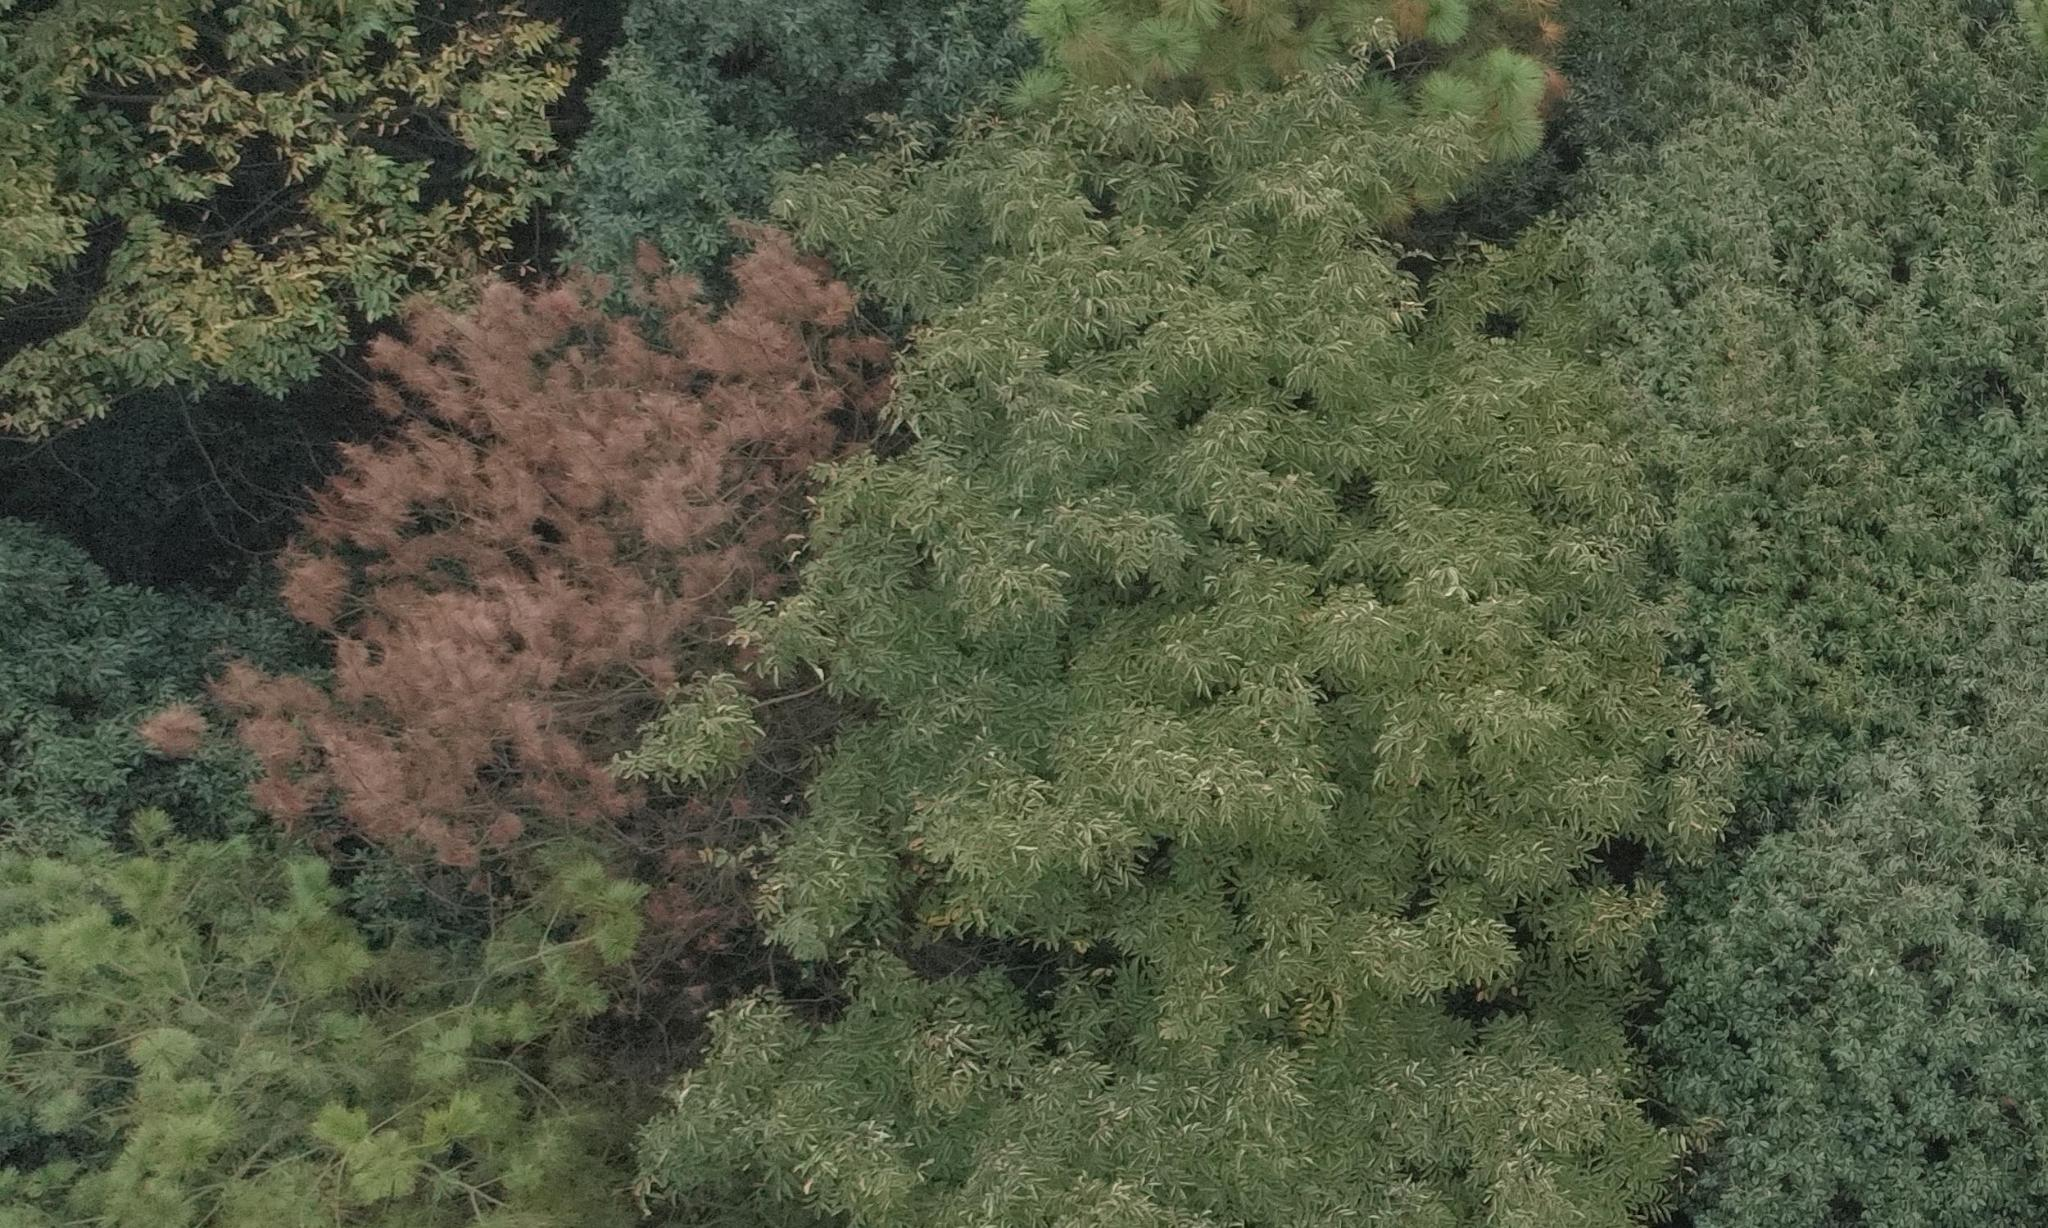heavy: (230, 237, 899, 880)
